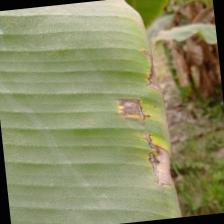cordana: (0, 0, 181, 224)
